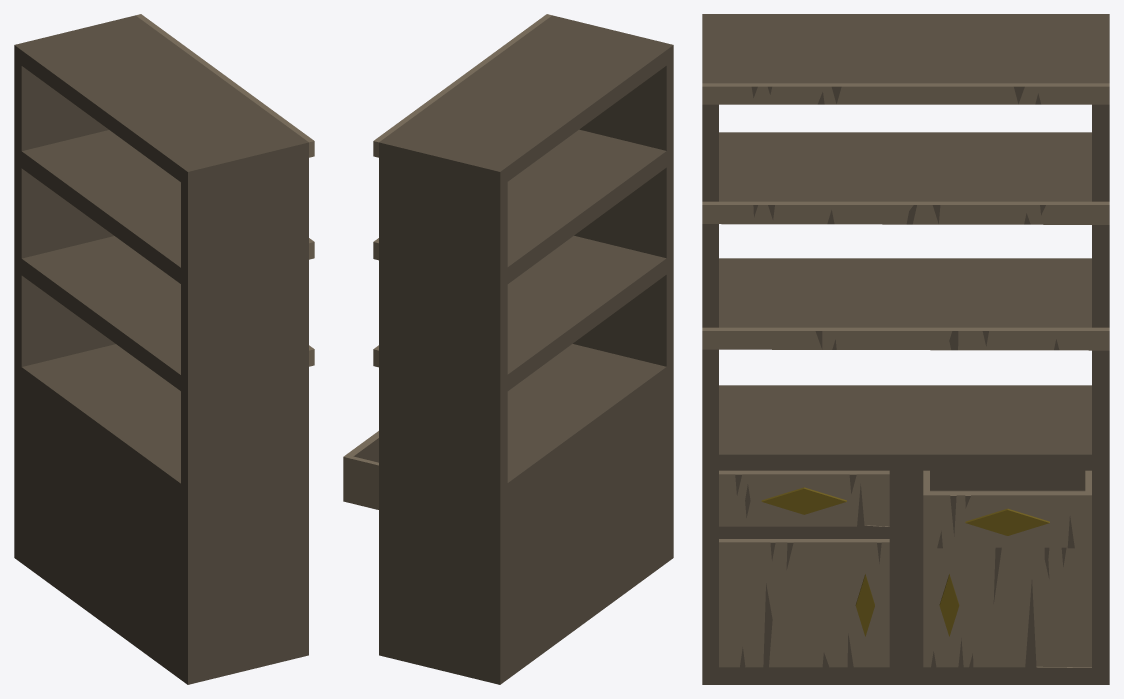
The model's file is BookShelf.fbx.
The picture shows the model from 3 angles, left to right: view 1: azimuth 30°, elevation 25°; view 2: azimuth 150°, elevation 25°; view 3: azimuth 270°, elevation 25°; orthographic projection. The views are drawn at different scales.
Parts seen in each view (by area): view 1: Cube; view 2: Cube; view 3: Cube.
Part boxes in pixels (<box>): Cube: <box>14,14,314,684</box>; Cube: <box>343,14,673,684</box>; Cube: <box>702,14,1109,684</box>.
Size of the model in its own units: 186 by 547 by 336.
